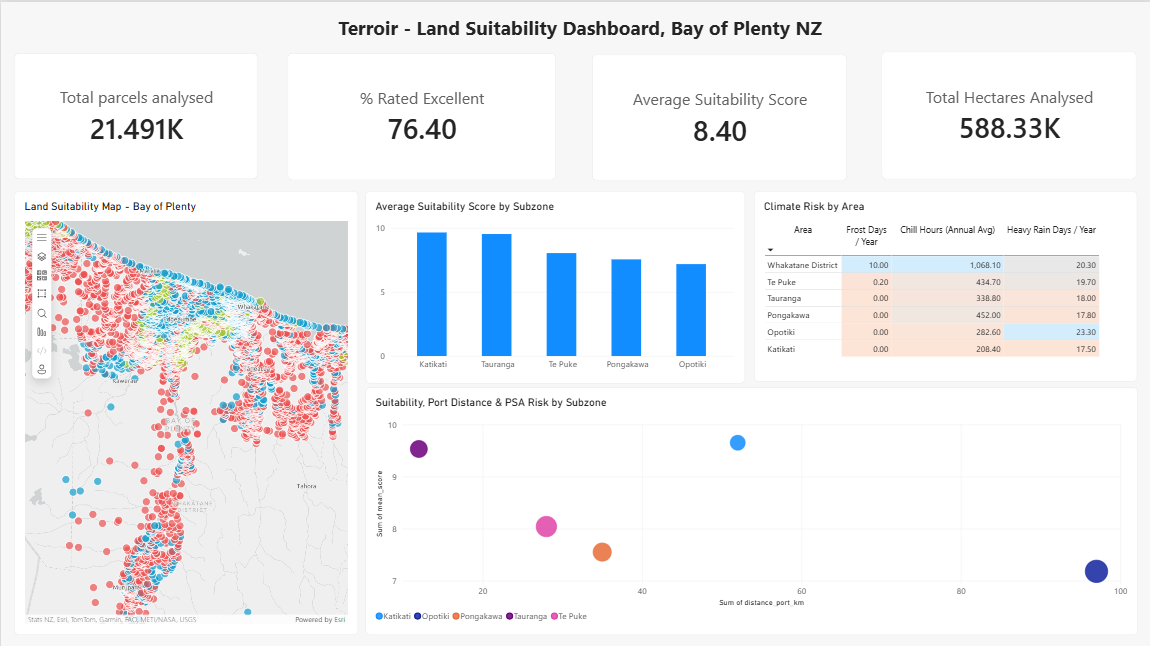

What the dashboard file says about the page in this screenshot:
{"tool":"powerbi","page":{"name":"Page 1","canvas":[1920,1080],"ordinal":0},"visuals":[{"type":"esriVisual","title":"Land Suitability Map - Bay of Plenty","fields":{"Color":["parcel_scores_for_map.suitability_level"],"Latitude":["parcel_scores_for_map.lat"],"Longitude":["parcel_scores_for_map.lon"]},"box":[22.5,315,572.5,740],"z":0},{"type":"cardVisual","fields":{"Data":["CountNonNull(parcel_scores_for_map.source_id)"]},"box":[22.3,85.2,405.5,210.9],"z":1},{"type":"cardVisual","fields":{"Data":["Sum(suitability_levels_summary.pct)"]},"box":[476.5,85.2,447.9,212.6],"z":2},{"type":"cardVisual","fields":{"Data":["Avg(parcel_scores_for_map.suitability_score)"]},"box":[985.4,87.2,425.8,210.9],"z":3},{"type":"cardVisual","fields":{"Data":["parcel_scores_for_map.Total Hectares"]},"box":[1468,83.1,425,213],"z":4},{"type":"clusteredColumnChart","title":"Average Suitability Score by Subzone","fields":{"Category":["subzone_summary.subzone"],"Y":["Sum(subzone_summary.mean_score)"]},"box":[608.3,314.3,632.6,320.4],"z":5},{"type":"tableEx","title":"Climate Risk by Area","fields":{"Values":["subzone_climate_risk.subzone","Sum(subzone_climate_risk.frost_days_per_year)","Avg(subzone_climate_risk.chill_hours_annual_avg)","Sum(subzone_climate_risk.heavy_rain_days_per_year)"]},"box":[1255.1,314.3,638.7,318.3],"z":6},{"type":"scatterChart","title":"Suitability, Port Distance & PSA Risk by Subzone","fields":{"Series":["cross_project_comparison.subzone"],"Size":["Sum(cross_project_comparison.psa_incidence_historical)"],"X":["Sum(cross_project_comparison.distance_port_km)"],"Y":["Sum(cross_project_comparison.mean_score)"]},"box":[632.2,642.2,1287.5,412.5],"z":7},{"type":"textbox","box":[22.3,20.3,1885.6,48.7],"z":8}]}

Visuals, with their boxes in screenshot pixels (x1, y1, x2, y2), scaled from the page's 1920x1080 canvas onto the 1150x646 screenshot:
"Land Suitability Map - Bay of Plenty" esriVisual: l=13, t=188, r=356, b=631
cardVisual - CountNonNull(parcel_scores_for_map.source_id): l=13, t=51, r=256, b=177
cardVisual - Sum(suitability_levels_summary.pct): l=285, t=51, r=554, b=178
cardVisual - Avg(parcel_scores_for_map.suitability_score): l=590, t=52, r=845, b=178
cardVisual - parcel_scores_for_map.Total Hectares: l=879, t=50, r=1134, b=177
"Average Suitability Score by Subzone" clusteredColumnChart: l=364, t=188, r=743, b=380
"Climate Risk by Area" tableEx: l=752, t=188, r=1134, b=378
"Suitability, Port Distance & PSA Risk by Subzone" scatterChart: l=379, t=384, r=1149, b=631
textbox: l=13, t=12, r=1143, b=41
